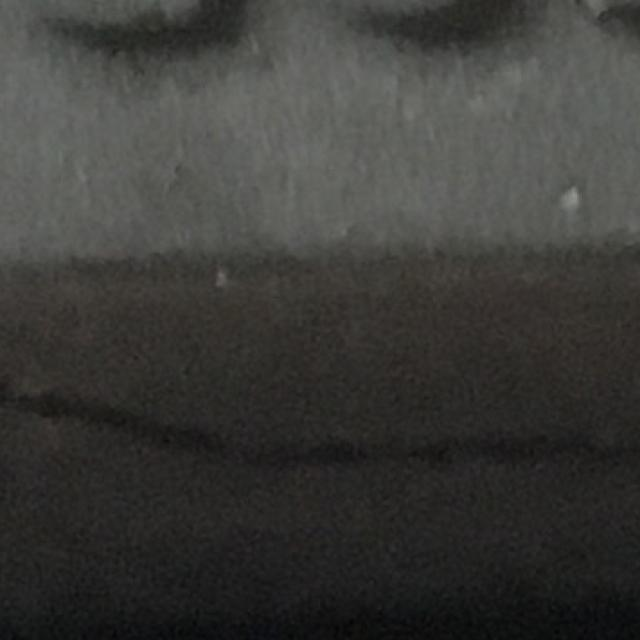Cracks: (0, 354, 638, 504)
Non-defective: (0, 0, 638, 335)
